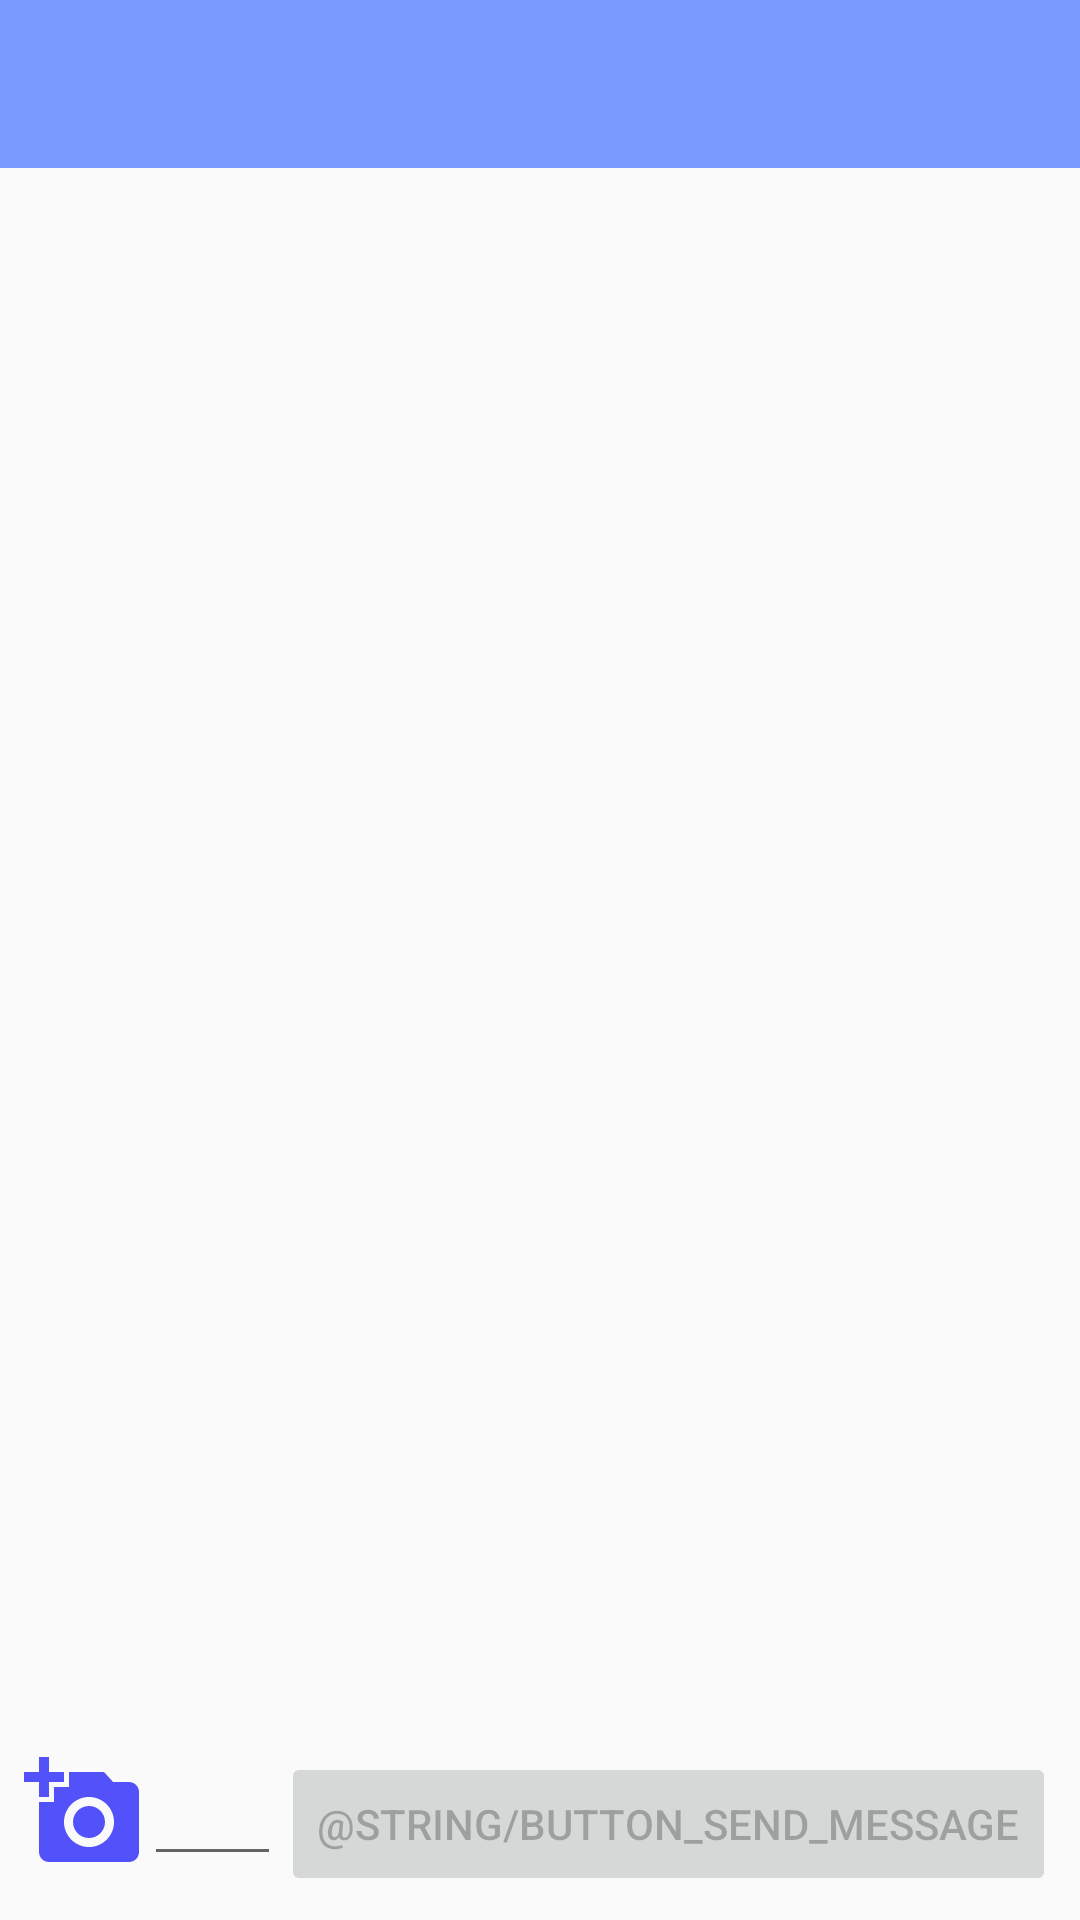

Screen size 1080 × 1920. Icon name, then its center in pixels as [x,y]:
add photo: [81,1809]
